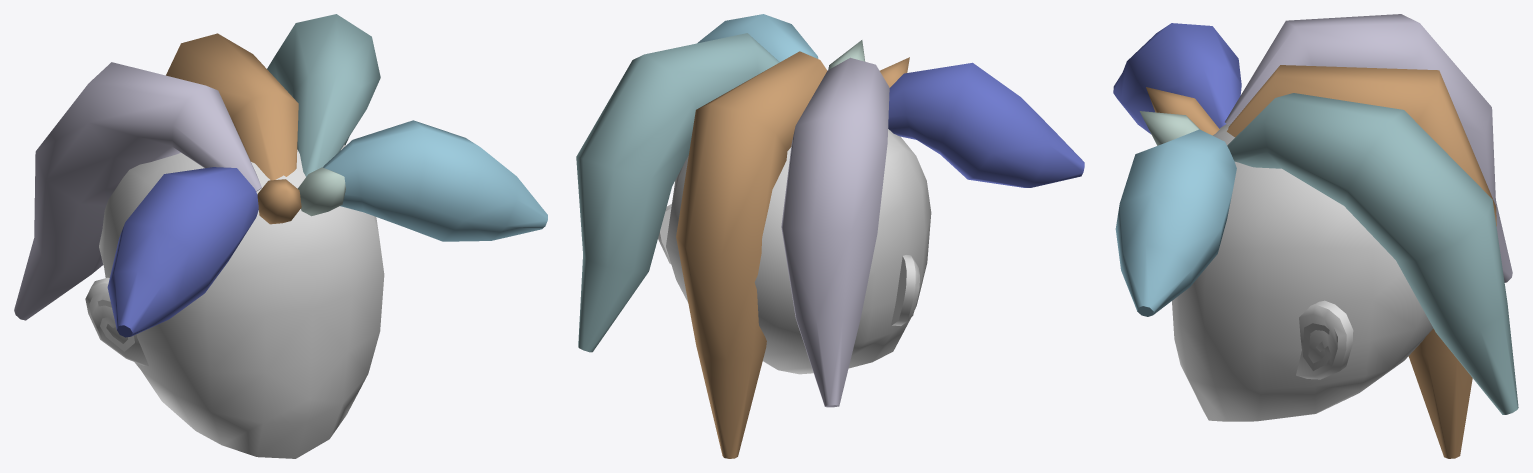
File: Hair10.glb
The picture shows the model from 3 angles, left to right: view 1: azimuth 30°, elevation 25°; view 2: azimuth 150°, elevation 25°; view 3: azimuth 270°, elevation 25°; orthographic projection. The views are drawn at different scales.
Visible parts, largest first — view 1: Head; view 2: Head; view 3: Head.
Part boxes in pixels (x1=…): Head: x1=14, y1=14, x2=547, y2=458; Head: x1=576, y1=14, x2=1084, y2=458; Head: x1=1113, y1=14, x2=1518, y2=458.
Bounding box in the file's own units: 0.9369 × 0.795 × 0.7268.
